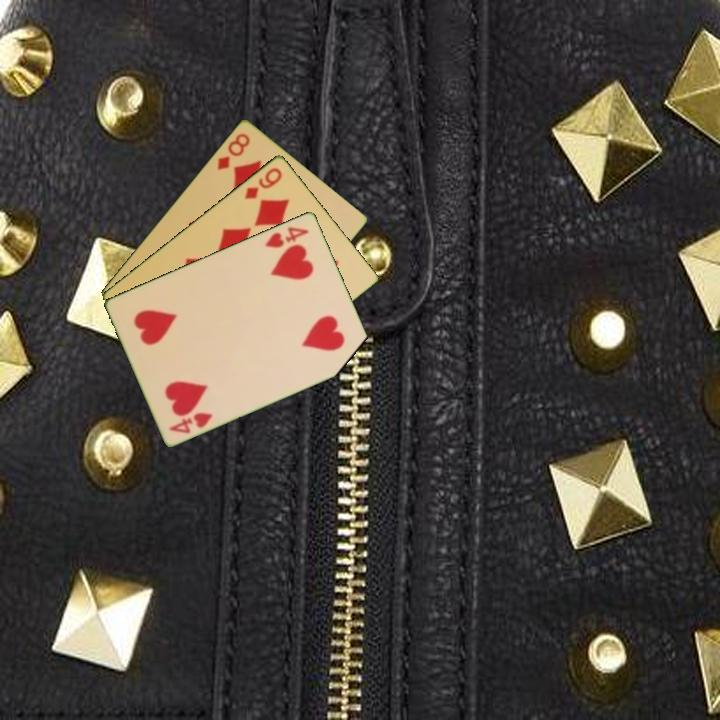4h: (261, 223, 312, 251), (166, 408, 216, 436)
8d: (213, 129, 253, 173)
9d: (241, 164, 285, 202)
